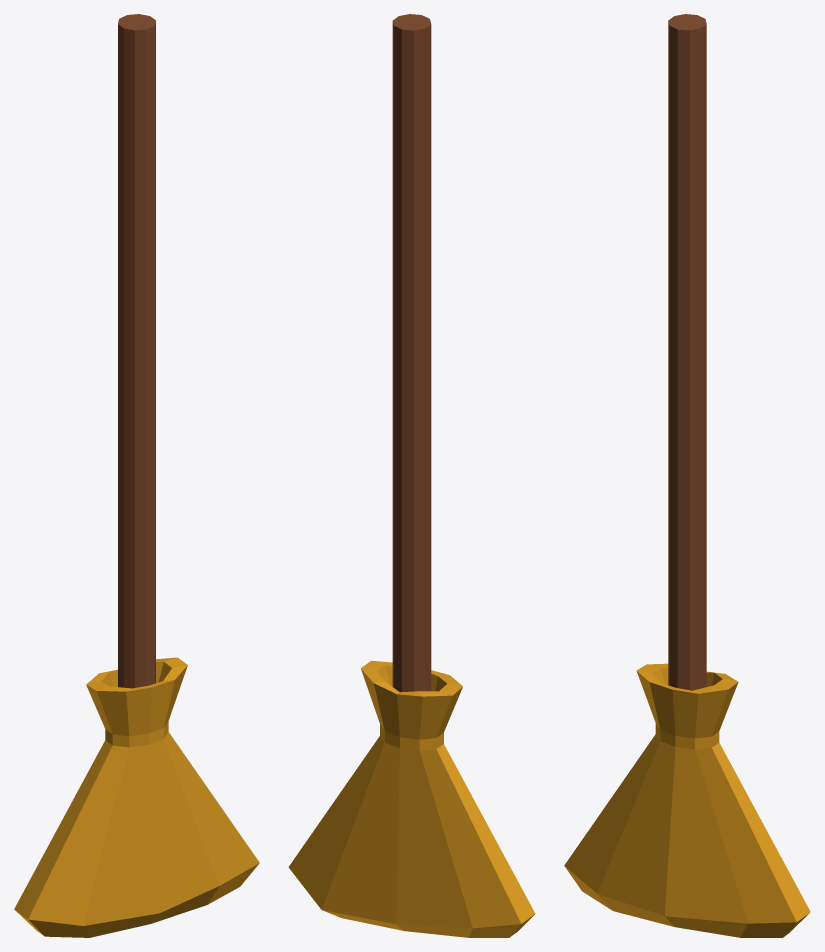
Rendered from broom01.obj.
The picture shows the model from 3 angles, left to right: view 1: azimuth 30°, elevation 25°; view 2: azimuth 150°, elevation 25°; view 3: azimuth 330°, elevation 25°; orthographic projection.
Parts seen in each view (by area): view 1: Cylinder.001; view 2: Cylinder.001; view 3: Cylinder.001.
Part boxes in pixels (x1,y1,x2,y2): Cylinder.001: (14, 14, 259, 937); Cylinder.001: (288, 14, 535, 937); Cylinder.001: (564, 14, 810, 937).
Size of the model in its own units: 0.3912 by 1.45 by 0.1197.
